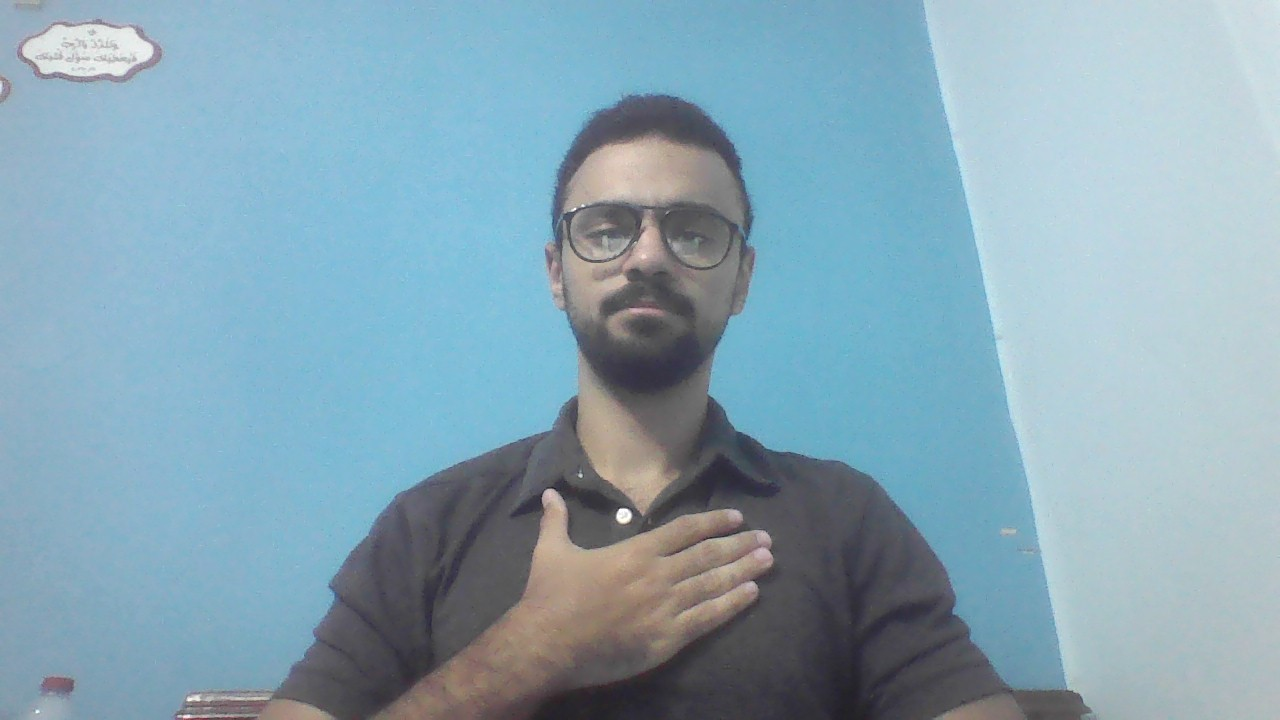please: (524, 487, 776, 688)
